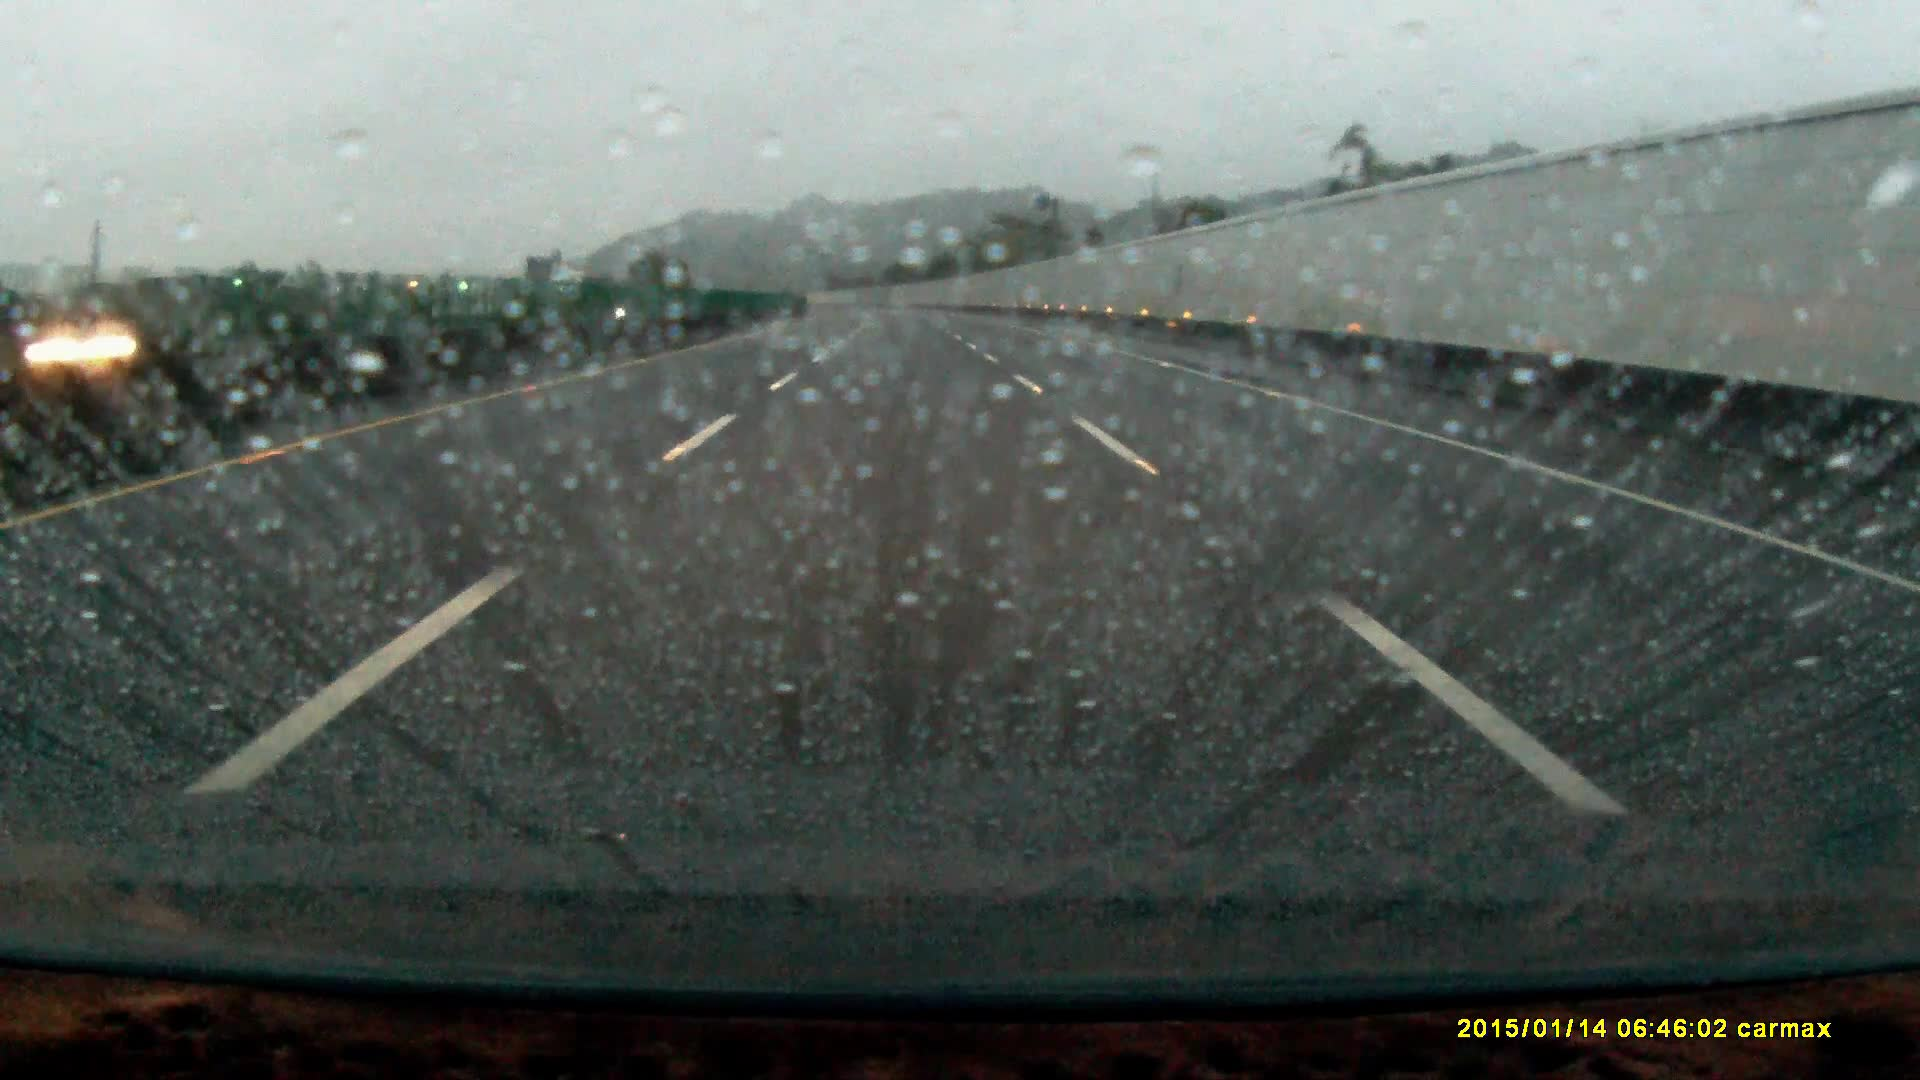vehicle: (40, 311, 165, 390)
